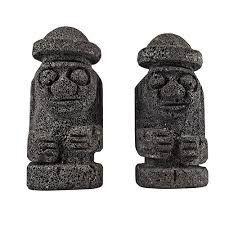Stone Statue: (16, 20, 109, 191), (124, 25, 216, 194)
